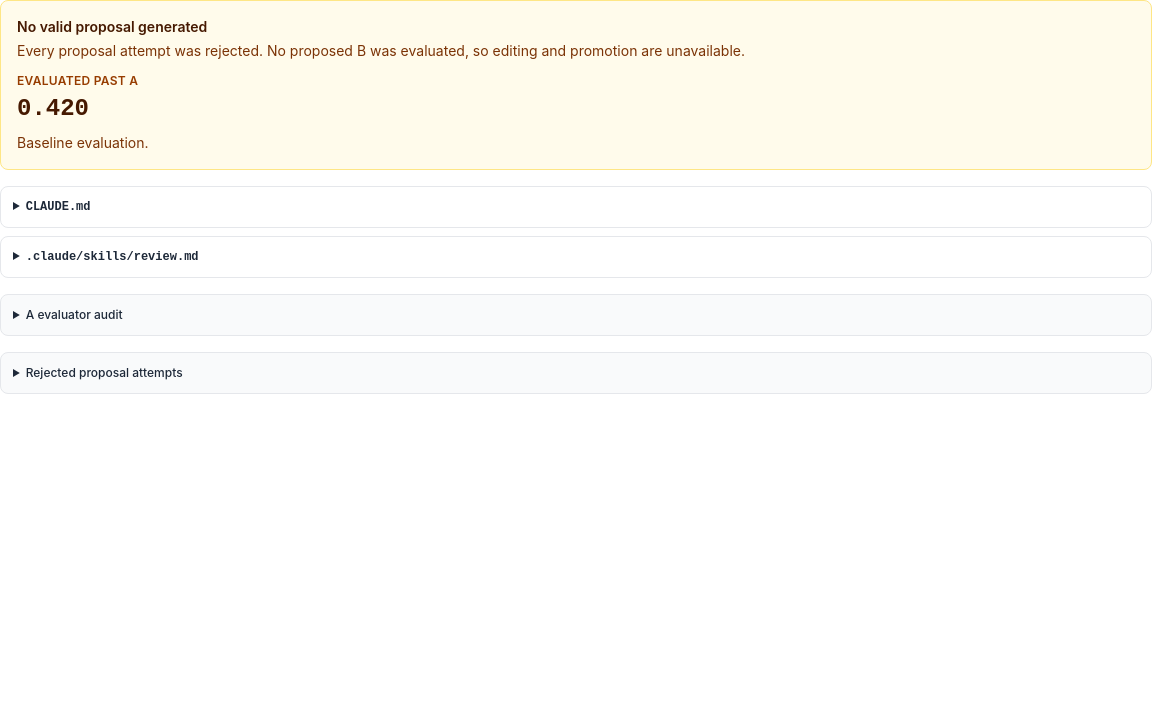
Test: ReflectionReview › distinguishes all-invalid reflection from an evaluated baseline winner
The width and height of the screenshot is (1164, 720).
Check: the heading "No valid proposal generated" is shown, box 17,18 -> 207,35
Check: the text "0.420" is shown, box 17,95 -> 89,122
Step 1. Click the heading "CLAUDE.md" → (58, 207), box 26,200 -> 90,214
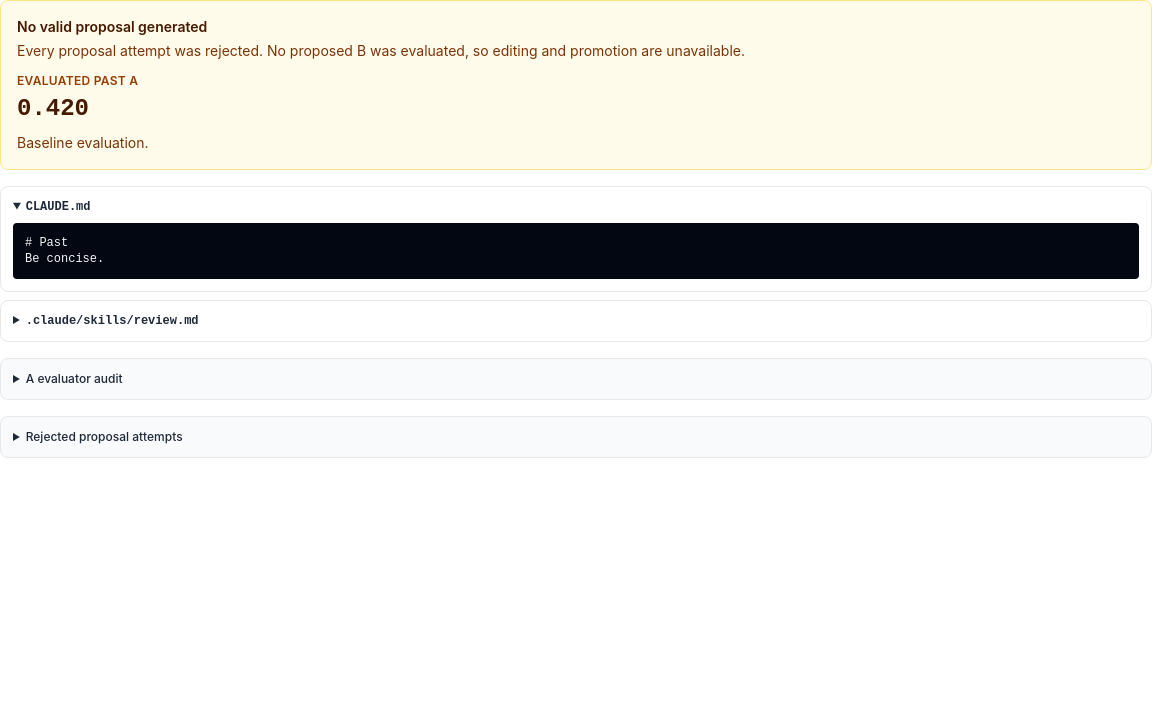
Step 2. Click the heading "Rejected proposal attempts" → (104, 436), box 26,429 -> 183,444
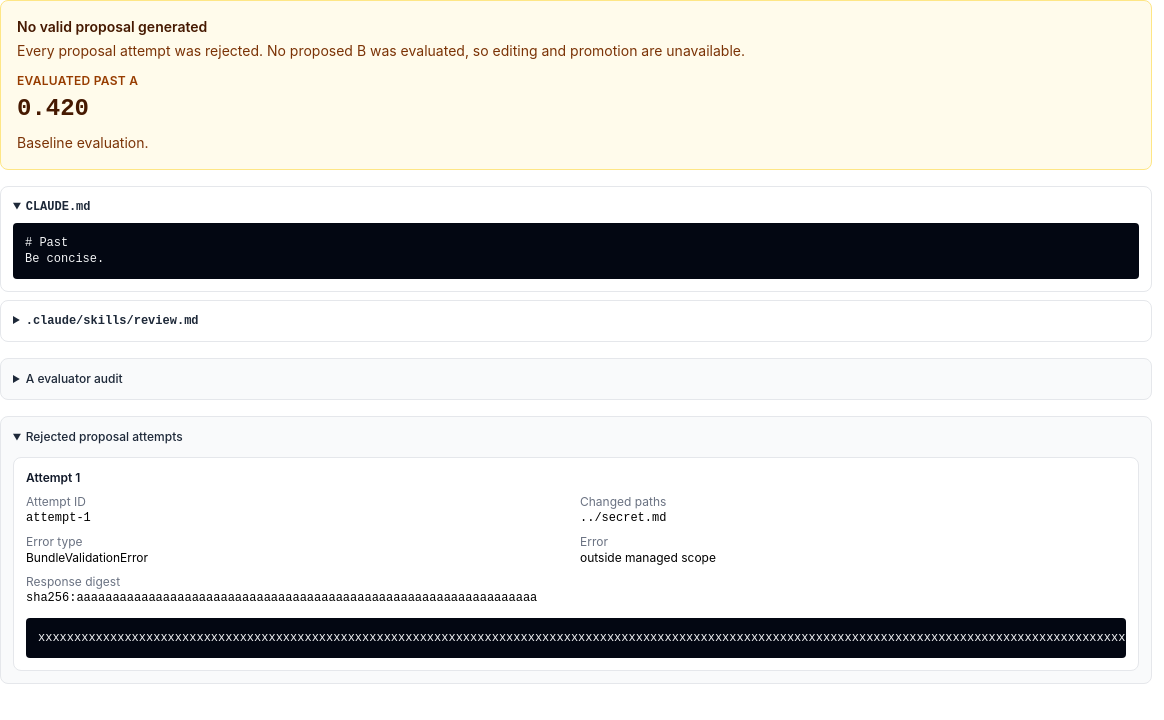
Check: the heading "Attempt 1" is shown, box 26,470 -> 80,485
Check: the text "attempt-1" is shown, box 26,511 -> 91,525
Check: the text "../secret.md" is shown, box 580,511 -> 666,525
